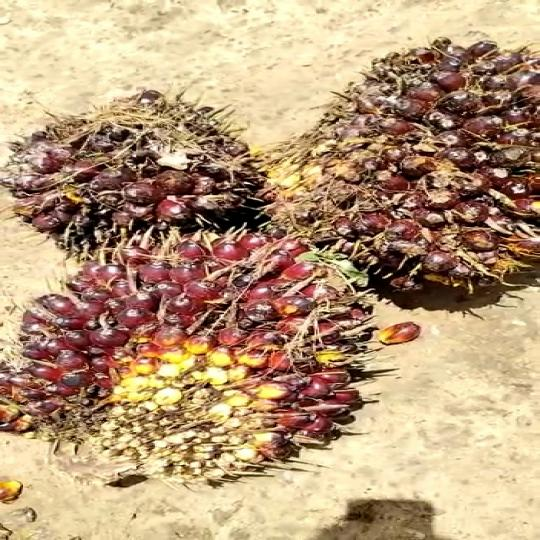kurang masak: (0, 219, 380, 506), (280, 26, 540, 320), (0, 74, 264, 253)
